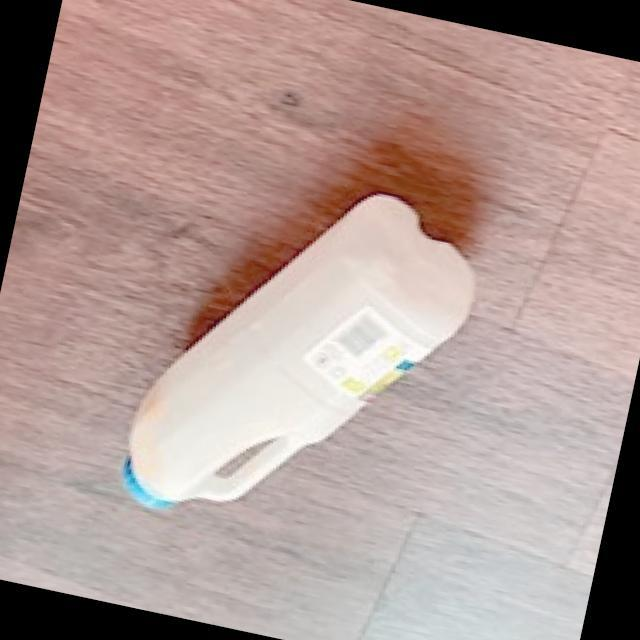HDPE Plastic: (118, 189, 480, 518)
